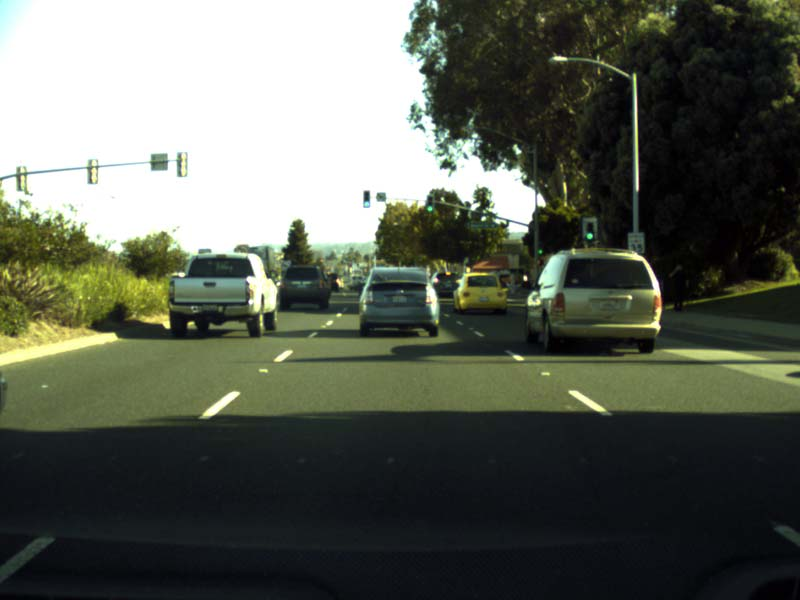Green: (581, 217, 597, 243), (425, 194, 434, 212), (362, 190, 369, 207), (536, 242, 542, 254)
